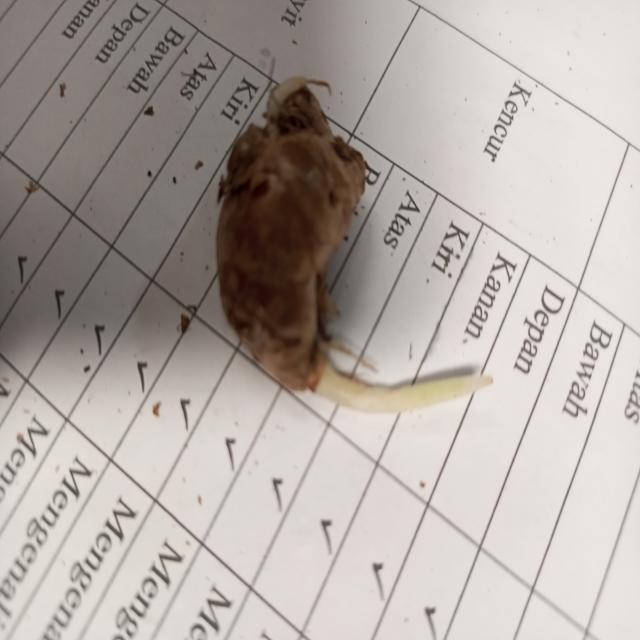ginger: (220, 73, 364, 393)
